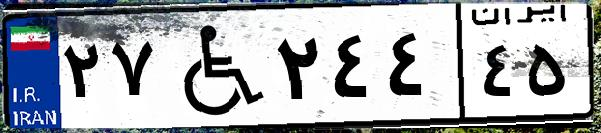2: (270, 28, 330, 110), (57, 26, 110, 100)
4: (385, 28, 445, 110), (330, 28, 385, 110), (475, 38, 525, 113)
5: (525, 38, 570, 115)
7: (110, 28, 158, 98)
ژ (معلولین و جانبازان): (158, 12, 270, 120)
